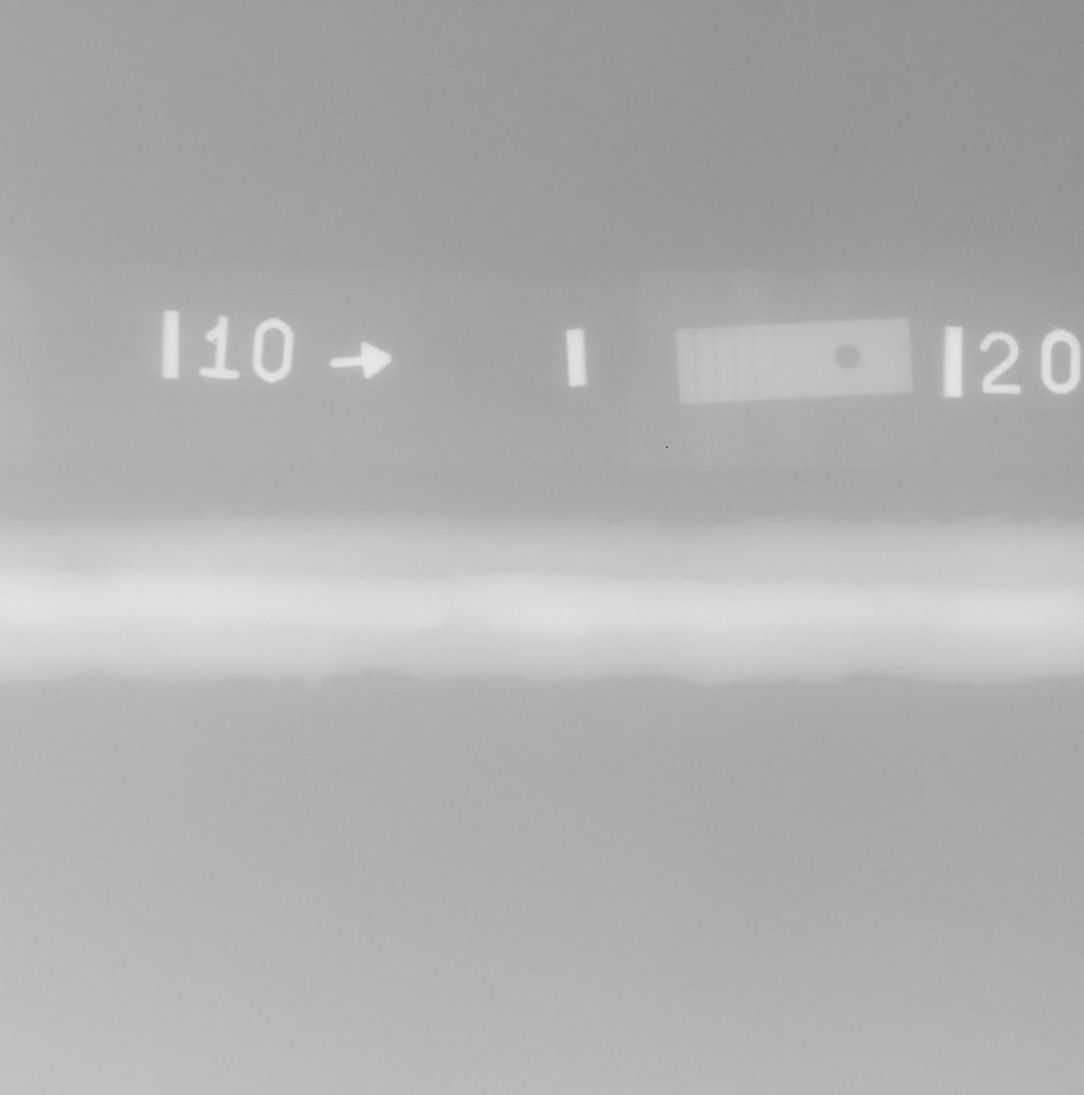Reference Standard 1: (674, 317, 913, 405)
